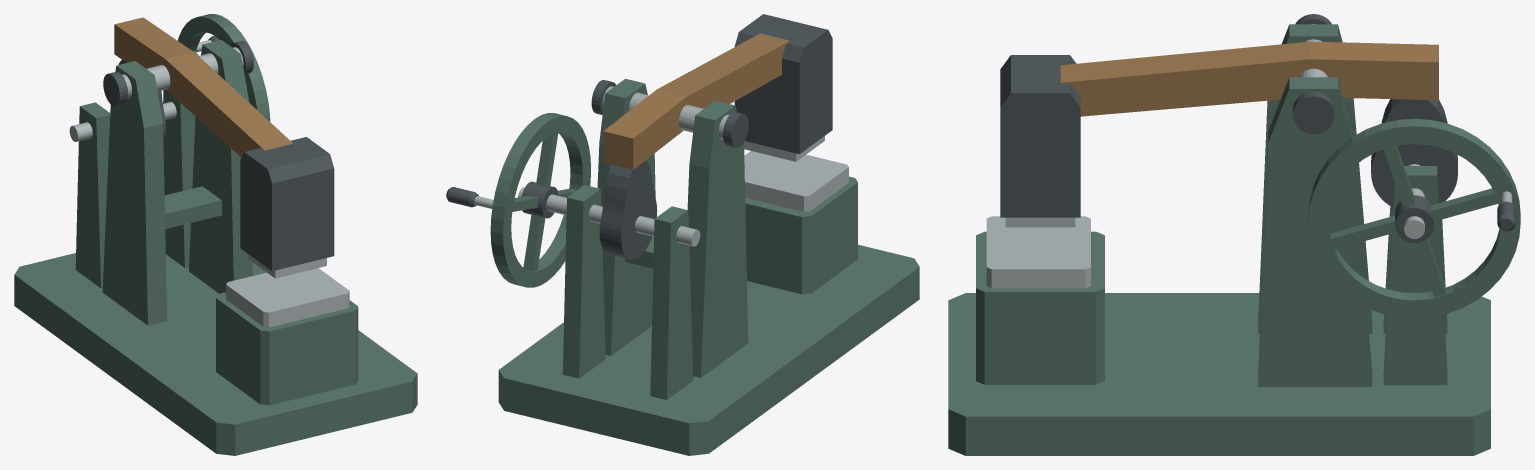
3 views of the same model, side by side, from view 1: azimuth 30°, elevation 25°; view 2: azimuth 150°, elevation 25°; view 3: azimuth 270°, elevation 25° (orthographic). The views are drawn at different scales.
Visible parts, largest first — view 1: WholeChamferedGroundBed, WholeLeftTaperedFulcrumCheek, WholeIndependentAnvilPedestal, WholeDeepHangingHammerHead, WholeLongTaperedHelve, WholeRightTaperedFulcrumCheek, WholeFlatAnvilCap, WholeLeftRearCamAxleStandard, WholeRightRearCamAxleStandard, WholeSideHandwheelRim, WholeLowFulcrumCrossTie, WholeTransverseHelvePivot (+3 smaller); view 2: WholeChamferedGroundBed, WholeLeftTaperedFulcrumCheek, WholeIndependentAnvilPedestal, WholeDeepHangingHammerHead, WholeLongTaperedHelve, WholeLeftRearCamAxleStandard, WholeRightRearCamAxleStandard, WholeSideHandwheelRim, WholeRightTaperedFulcrumCheek, WholeFlatAnvilCap, WholeSingleHighCrestTailCam, WholeRearCrossCamshaft (+6 smaller); view 3: WholeChamferedGroundBed, WholeRightTaperedFulcrumCheek, WholeLongTaperedHelve, WholeIndependentAnvilPedestal, WholeSideHandwheelRim, WholeDeepHangingHammerHead, WholeRightRearCamAxleStandard, WholeFlatAnvilCap, WholeSingleHighCrestTailCam, WholeLeftTaperedFulcrumCheek, WholeRightProudPivotCap, WholeSideHandwheelSpoke1 (+6 smaller).
Part boxes in pixels (box(x1,y1,x2,y2)): WholeChamferedGroundBed: box(14, 253, 417, 455); WholeLeftTaperedFulcrumCheek: box(102, 61, 166, 325); WholeIndependentAnvilPedestal: box(216, 292, 358, 405); WholeDeepHangingHammerHead: box(240, 137, 334, 271); WholeLongTaperedHelve: box(114, 17, 292, 157); WholeRightTaperedFulcrumCheek: box(189, 40, 252, 293); WholeFlatAnvilCap: box(226, 268, 349, 327); WholeLeftRearCamAxleStandard: box(75, 102, 110, 288); WholeRightRearCamAxleStandard: box(163, 89, 195, 267); WholeSideHandwheelRim: box(178, 14, 270, 121); WholeLowFulcrumCrossTie: box(164, 186, 221, 228); WholeTransverseHelvePivot: box(122, 47, 243, 98); WholeChamferedGroundBed: box(498, 244, 919, 455); WholeLeftTaperedFulcrumCheek: box(687, 100, 748, 377); WholeIndependentAnvilPedestal: box(745, 176, 857, 294); WholeDeepHangingHammerHead: box(734, 14, 832, 154); WholeLongTaperedHelve: box(603, 33, 789, 169); WholeLeftRearCamAxleStandard: box(650, 206, 693, 399); WholeRightRearCamAxleStandard: box(562, 185, 605, 378); WholeSideHandwheelRim: box(490, 113, 590, 287); WholeRightTaperedFulcrumCheek: box(597, 78, 655, 355); WholeFlatAnvilCap: box(744, 151, 848, 211); WholeSingleHighCrestTailCam: box(599, 160, 657, 259); WholeRearCrossCamshaft: box(518, 187, 700, 246); WholeChamferedGroundBed: box(948, 293, 1490, 455); WholeRightTaperedFulcrumCheek: box(1258, 77, 1372, 386); WholeLongTaperedHelve: box(1060, 41, 1438, 116); WholeIndependentAnvilPedestal: box(976, 231, 1104, 384); WholeSideHandwheelRim: box(1308, 118, 1520, 318); WholeDeepHangingHammerHead: box(1000, 55, 1080, 217); WholeRightRearCamAxleStandard: box(1383, 166, 1447, 385); WholeFlatAnvilCap: box(986, 216, 1090, 288); WholeSingleHighCrestTailCam: box(1371, 99, 1457, 207); WholeLeftTaperedFulcrumCheek: box(1258, 24, 1372, 334); WholeRightProudPivotCap: box(1292, 91, 1334, 134); WholeSideHandwheelSpoke1: box(1430, 188, 1497, 221).
Size of the model in its own units: 0.985 by 1.09 by 1.64.
